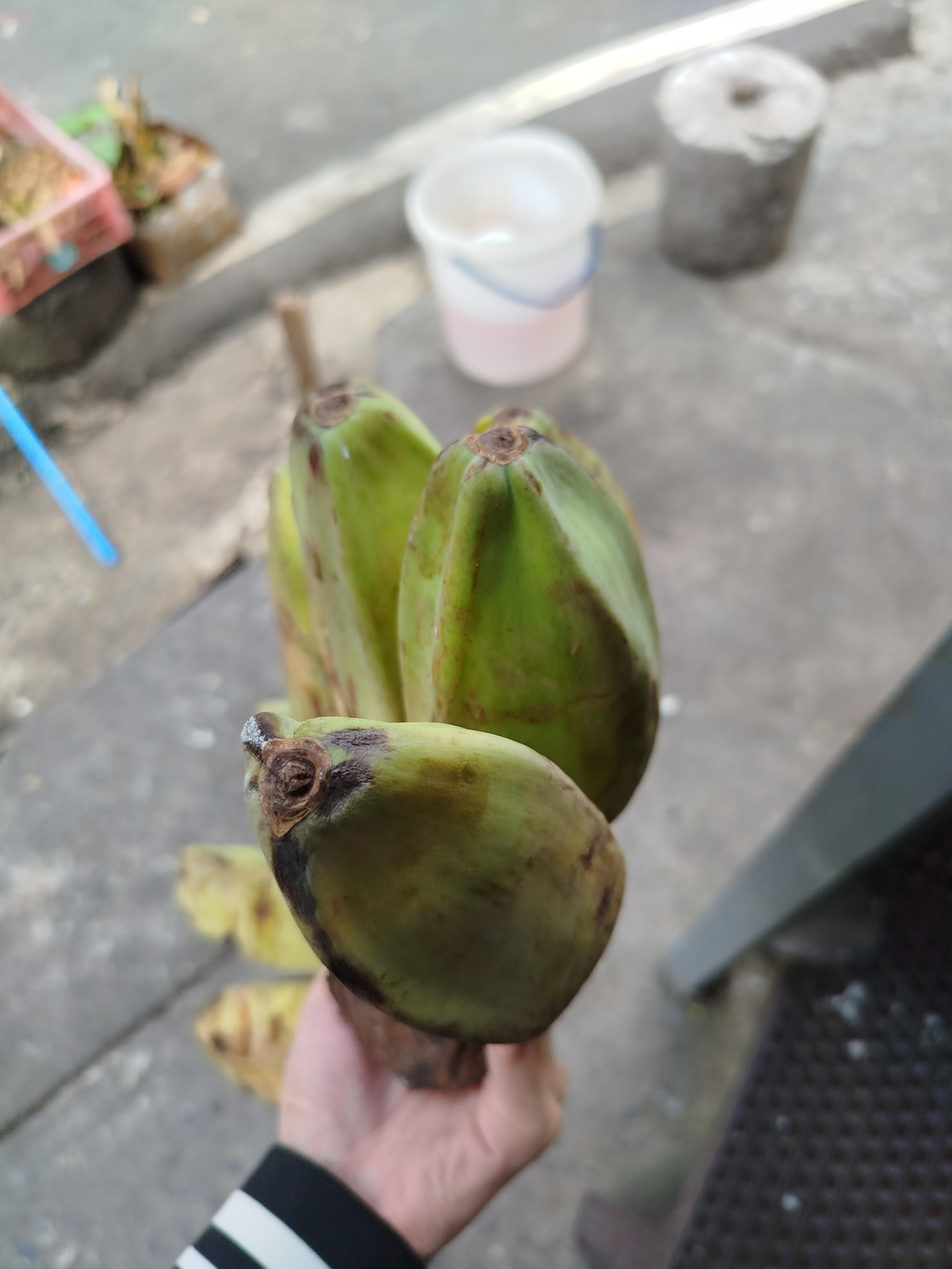underripe: (176, 383, 660, 1042)
